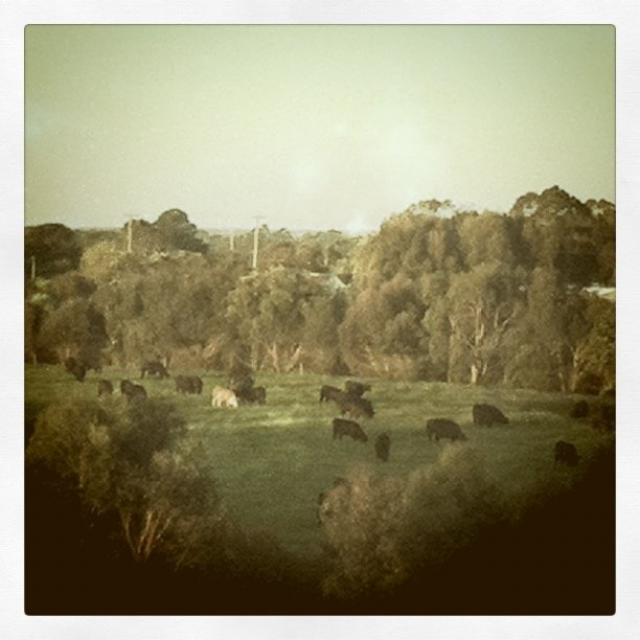cow: (21, 349, 252, 396), (333, 391, 374, 419), (424, 419, 468, 444), (329, 417, 366, 442), (550, 440, 583, 467), (471, 402, 509, 425), (175, 371, 202, 393), (119, 379, 146, 400), (318, 383, 342, 405), (212, 386, 237, 407), (240, 385, 266, 405), (372, 428, 388, 460), (344, 379, 371, 394), (570, 399, 587, 417)
